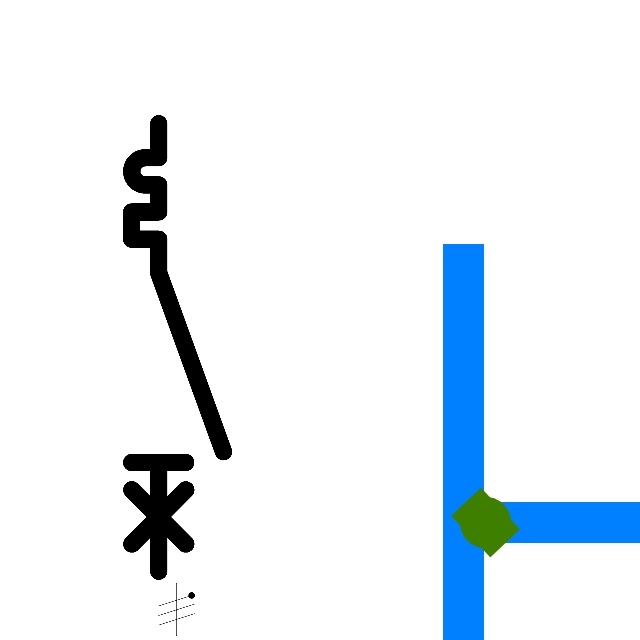interruptor_termomagnetico: (120, 112, 235, 582)
